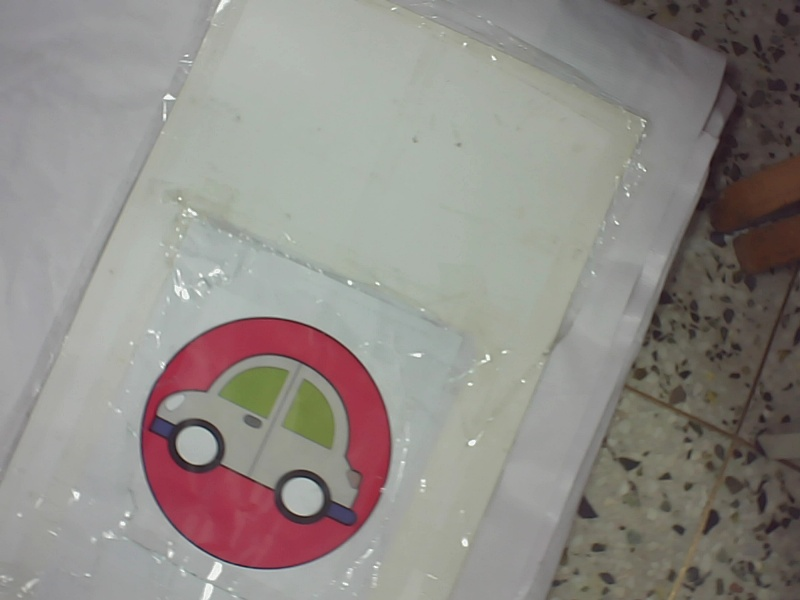areaC: (133, 315, 402, 569)
